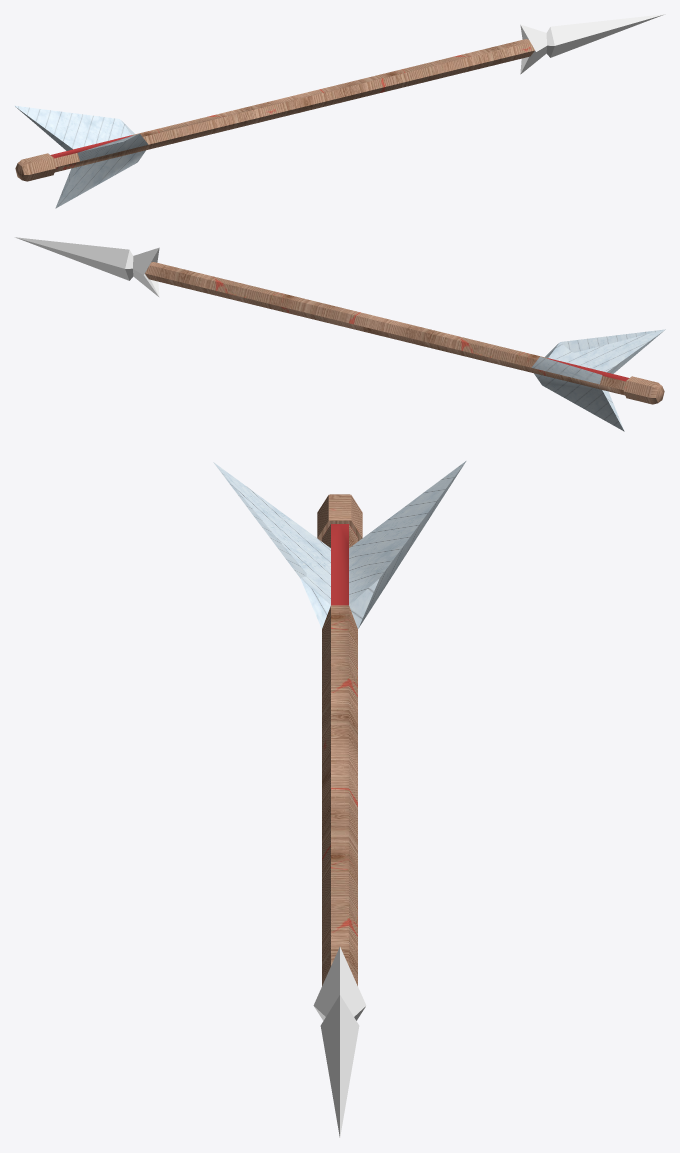
The model's file is ArrowModel.fbx.
The picture shows the model from 3 angles, top to bottom: view 1: azimuth 30°, elevation 25°; view 2: azimuth 150°, elevation 25°; view 3: azimuth 270°, elevation 25°; orthographic projection. The views are drawn at different scales.
Parts seen in each view (by area): view 1: Arrow1; view 2: Arrow1; view 3: Arrow1.
Boxes of the visible parts, x1=… form: Arrow1: x1=14, y1=14, x2=664, y2=208; Arrow1: x1=15, y1=237, x2=665, y2=431; Arrow1: x1=213, y1=461, x2=466, y2=1137.
Size of the model in its own units: 8.28 by 1 by 1.4.
4 materials, 2 textured.
